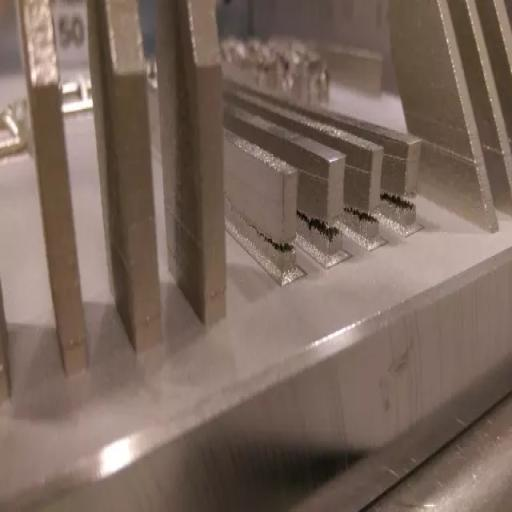cracks: (360, 170, 424, 239), (240, 200, 296, 272), (304, 192, 348, 255)
